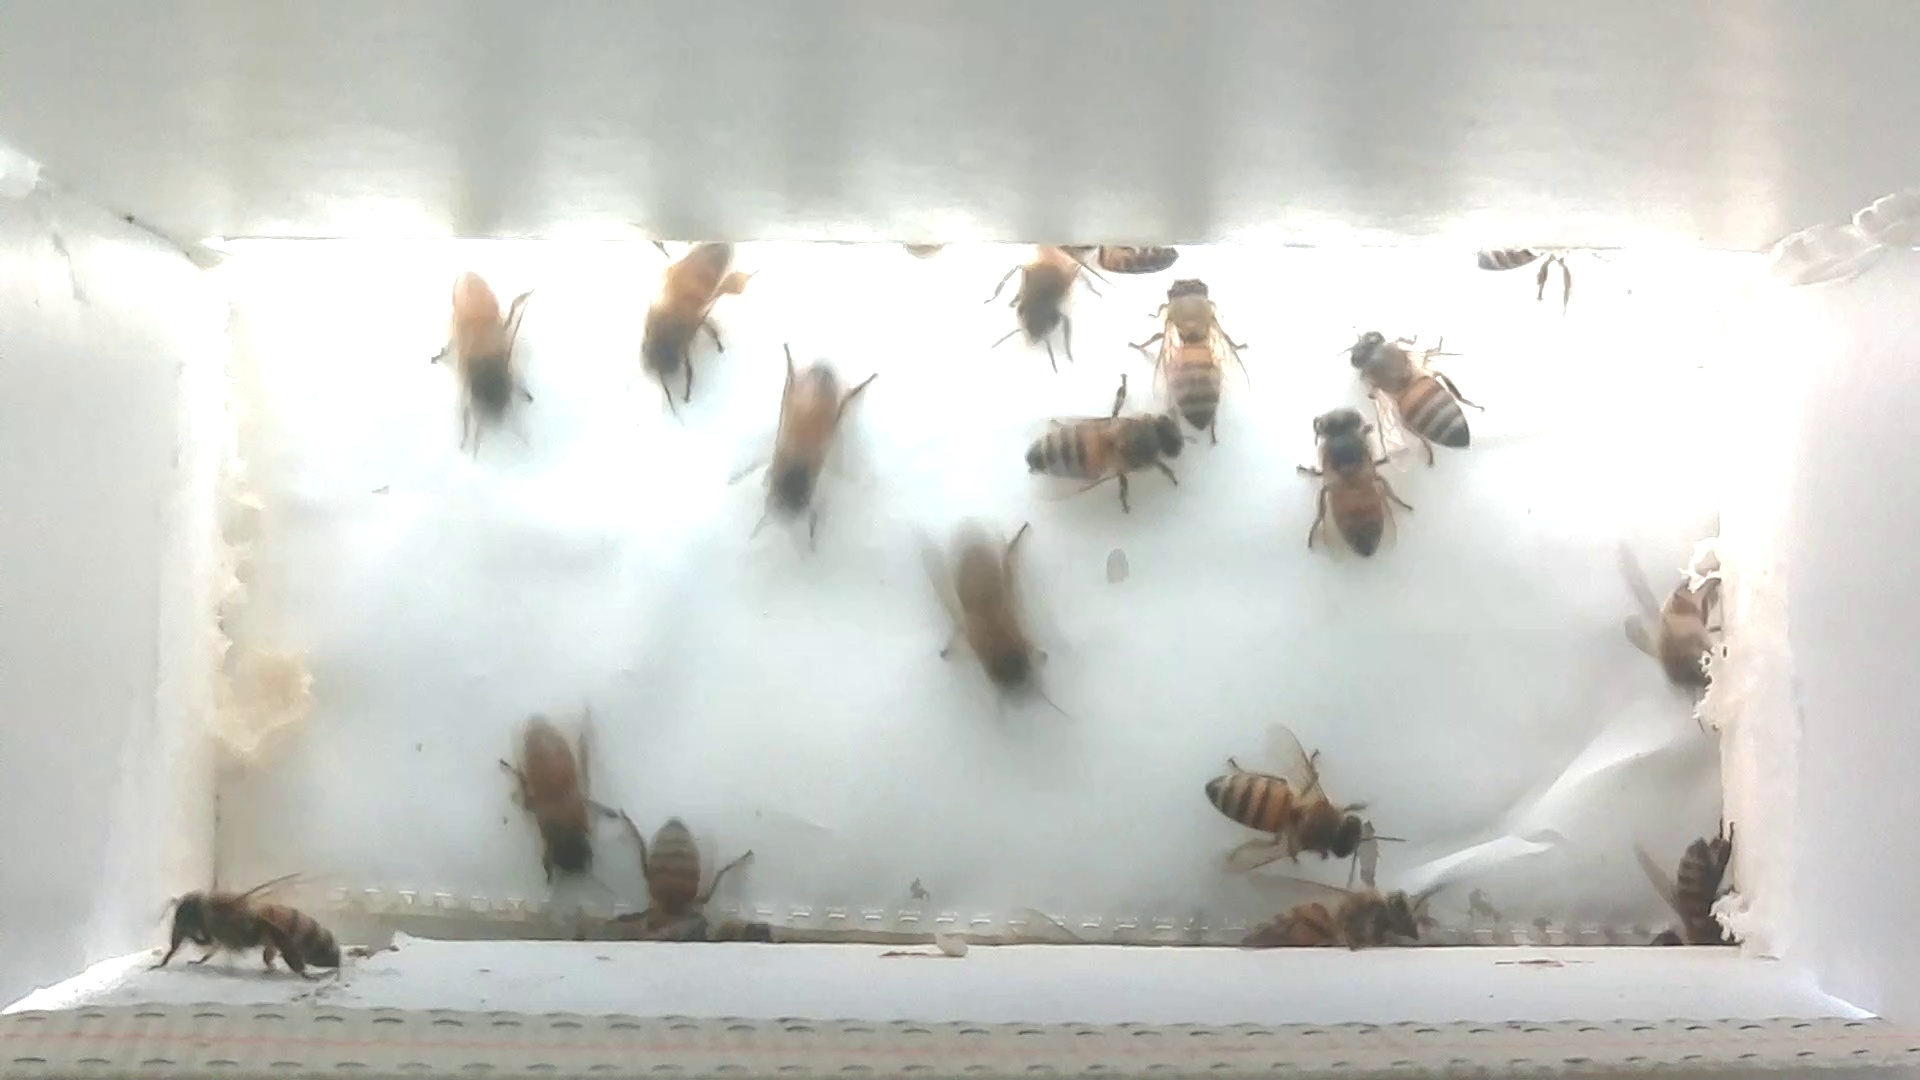bee: (1184, 717, 1408, 884), (903, 514, 1077, 721), (1329, 310, 1509, 476), (735, 340, 873, 553), (1011, 371, 1215, 514), (415, 255, 550, 454), (607, 794, 773, 953), (484, 700, 620, 890), (1604, 539, 1735, 727), (1284, 400, 1428, 570), (149, 865, 349, 986), (625, 229, 749, 414), (1216, 873, 1447, 968), (1129, 270, 1255, 440), (1615, 816, 1753, 960), (978, 223, 1096, 371), (1464, 231, 1596, 314), (1083, 236, 1184, 287)
